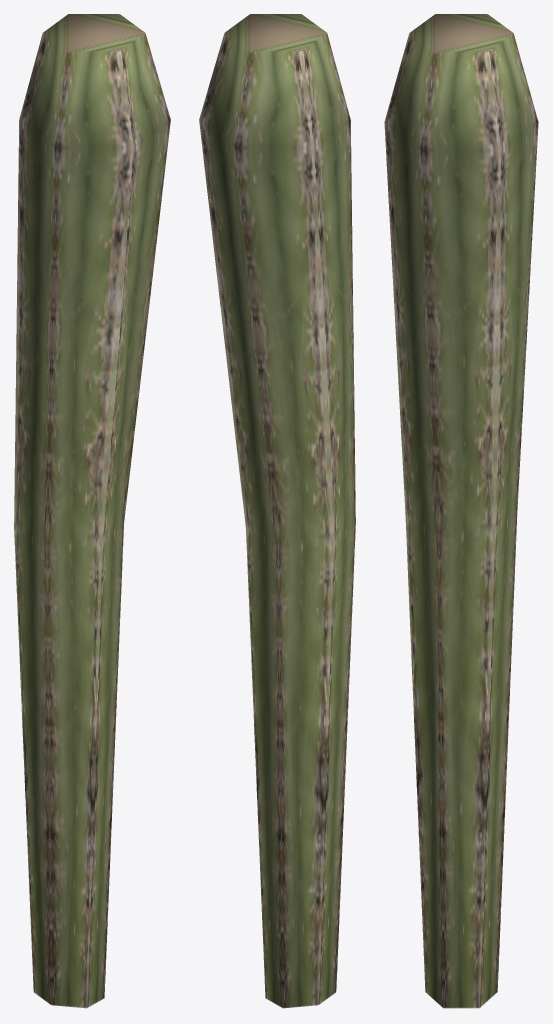
File: cactus_stenocerus_large_b.dae
3 renders of one model, left to right at view 1: azimuth 30°, elevation 25°; view 2: azimuth 150°, elevation 25°; view 3: azimuth 270°, elevation 25°, orthographic.
Parts seen in each view (by area): view 1: Circle_001; view 2: Circle_001; view 3: Circle_001.
Part boxes in pixels (bbox=[...]): Circle_001: bbox=[14, 14, 170, 1008]; Circle_001: bbox=[199, 14, 355, 1008]; Circle_001: bbox=[384, 14, 538, 1008].
Bounding box in the file's own units: 1.24 × 1.29 × 9.01.
